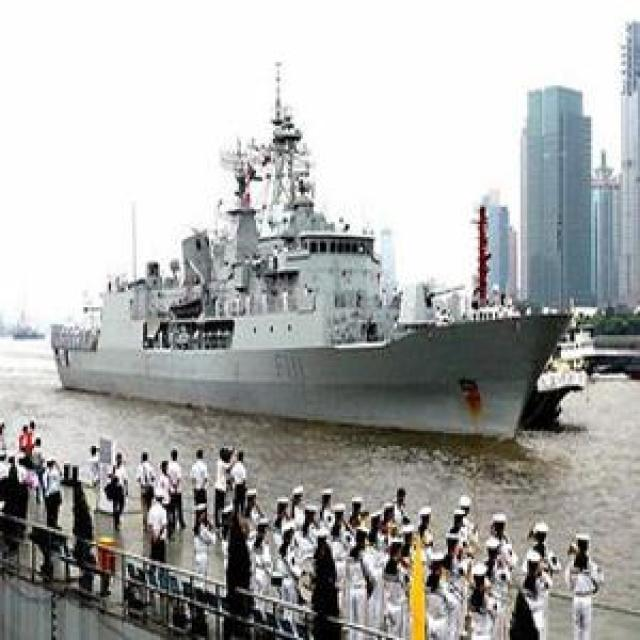navalvessels: (37, 88, 568, 437)
